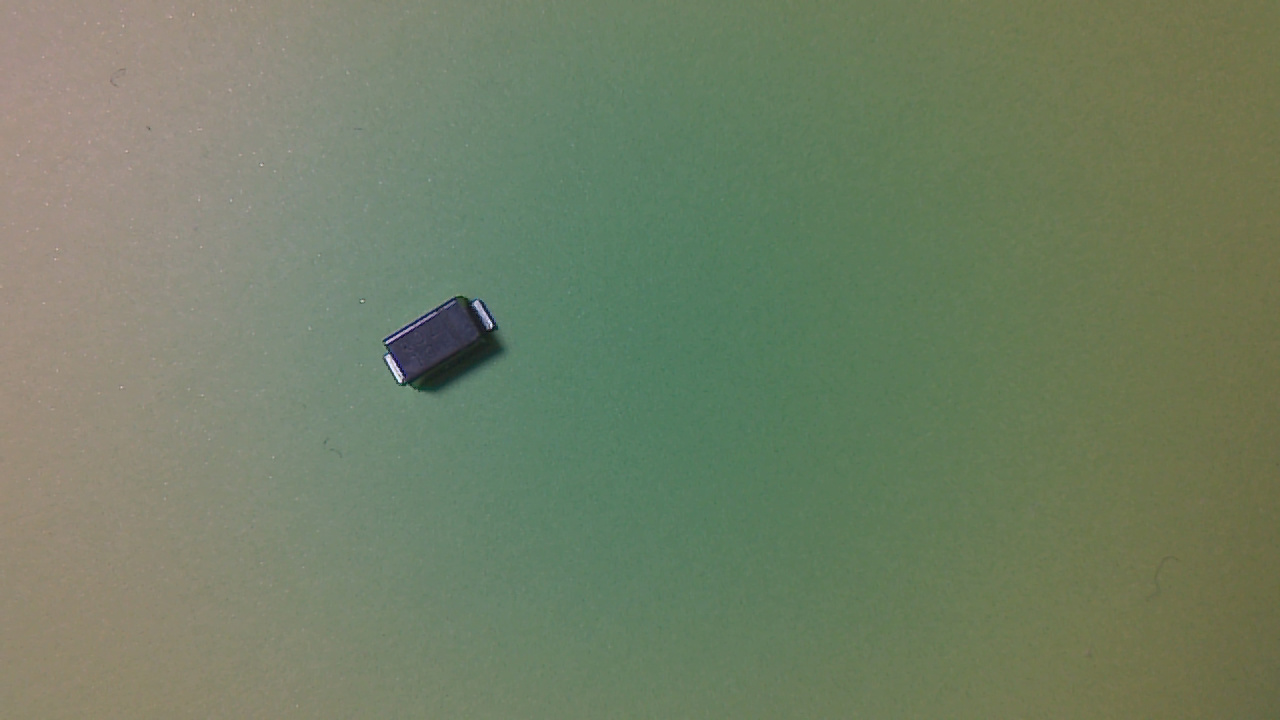Diode: (386, 295, 504, 397)
